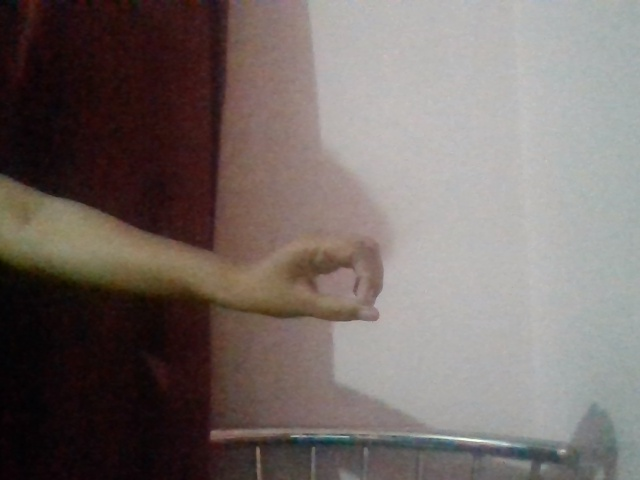O: (181, 176, 444, 396)
